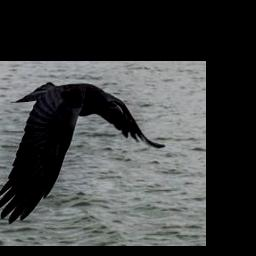Crow: (0, 80, 166, 223)
